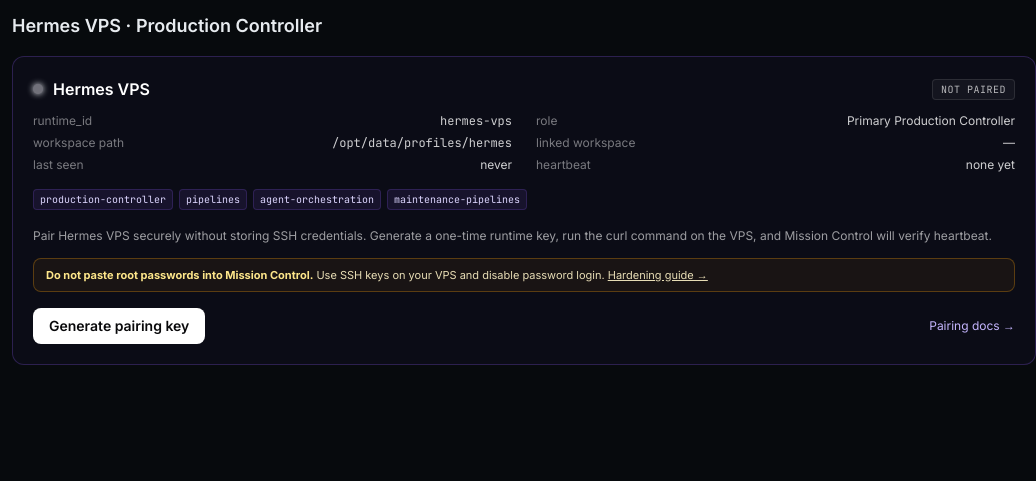
Test: HermesVpsCard › Generate pairing key mints a one-time curl command (no raw key persisted in UI)
Click the button with test id "hermes-vps-generate".
click(119, 326)  # box [33,308,205,344]
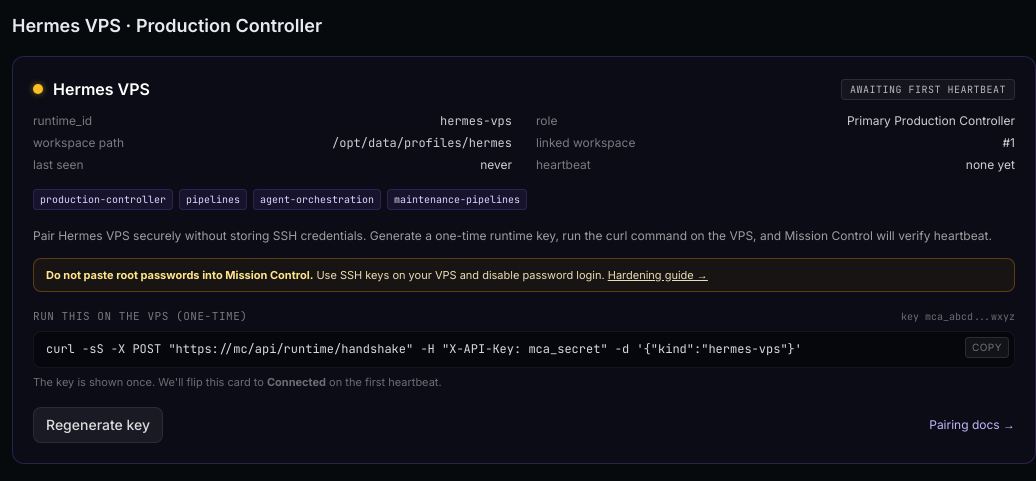
Expected: the text "hermes-vps" is shown, [440,113,512,129]
Result: the text with test id "hermes-vps-command" shows "/api/runtime/handshake" at [46,340,802,356]
Result: the text with test id "hermes-vps-command" shows "\"kind\":\"hermes-vps\"" at [46,340,802,356]
